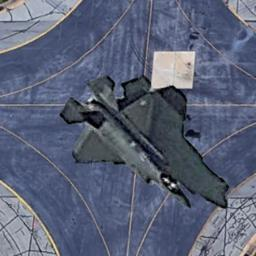Airplane: (55, 67, 223, 211)
